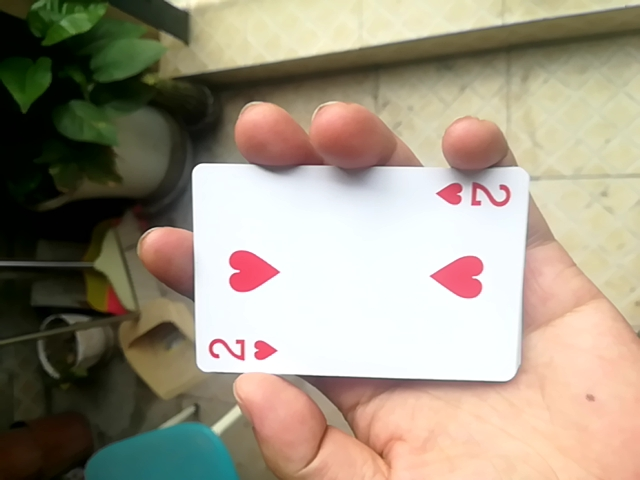hx 2: (179, 161, 537, 376)
